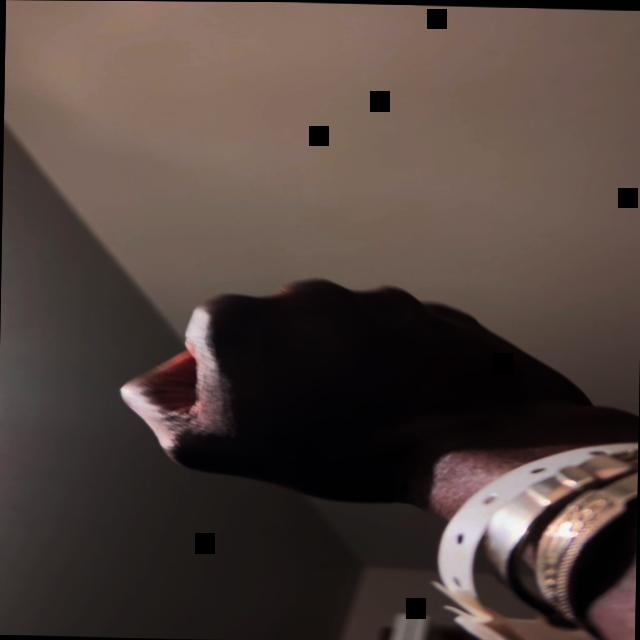Rock: (104, 270, 609, 507)
